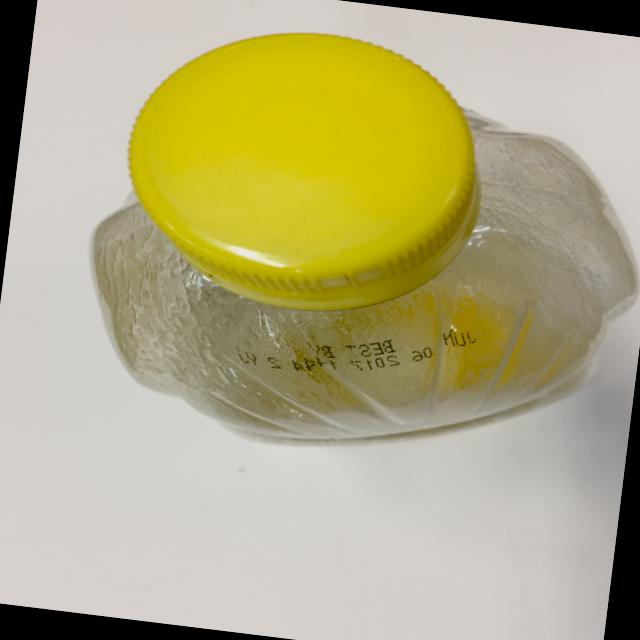Plastic: (10, 0, 640, 502)
